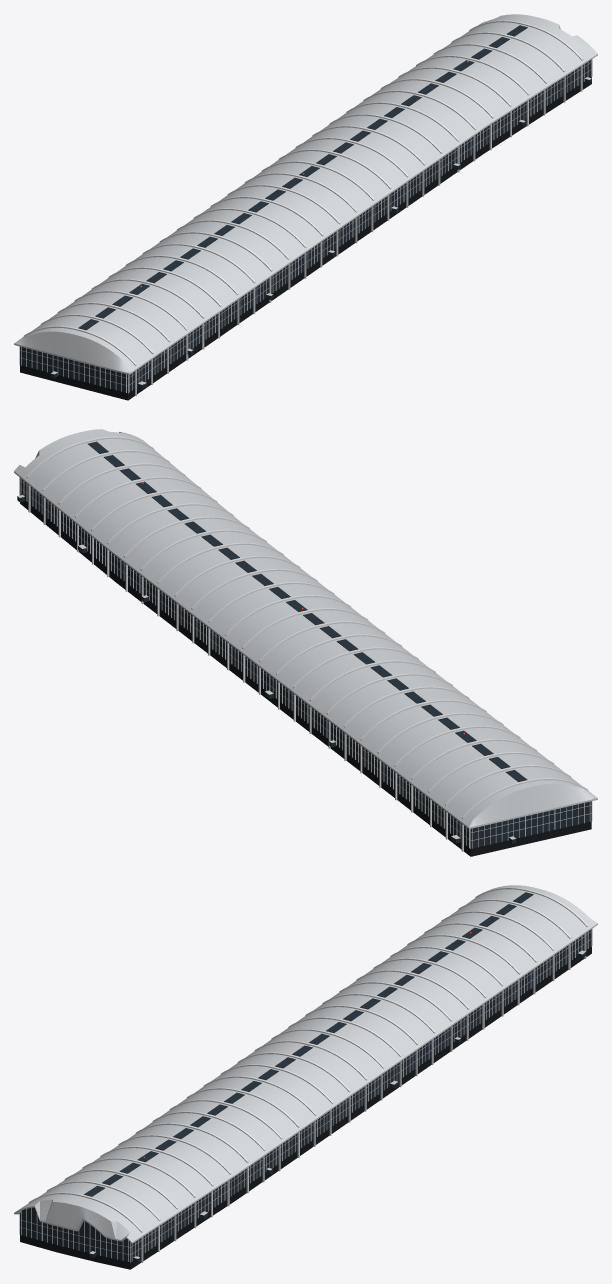
File: OMDB_concourse_a.glb
The picture shows the model from 3 angles, top to bottom: view 1: azimuth 90°, elevation 25°; view 2: azimuth 150°, elevation 25°; view 3: azimuth 270°, elevation 25°; orthographic projection. The views are drawn at different scales.
Visible parts, largest first — view 1: ConcourseA_Building, ConcourseA_Structure, ConcourseA_Skylights; view 2: ConcourseA_Building, ConcourseA_Structure, ConcourseA_Skylights; view 3: ConcourseA_Building, ConcourseA_Structure, ConcourseA_Skylights.
Part boxes in pixels (x1,y1,x2,y2): ConcourseA_Building: [14, 14, 597, 400]; ConcourseA_Structure: [19, 20, 592, 395]; ConcourseA_Skylights: [78, 25, 527, 330]; ConcourseA_Building: [14, 429, 597, 856]; ConcourseA_Structure: [17, 436, 592, 851]; ConcourseA_Skylights: [88, 441, 527, 781]; ConcourseA_Building: [14, 885, 597, 1269]; ConcourseA_Structure: [19, 887, 592, 1262]; ConcourseA_Skylights: [84, 892, 533, 1196].
Size of what is drawn, in the model's own units: 608 by 44.05 by 429.
